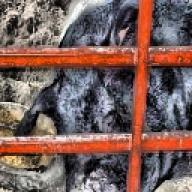boar: (4, 0, 192, 192)
